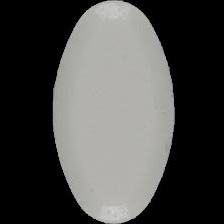21695-801: (0, 0, 224, 224)
